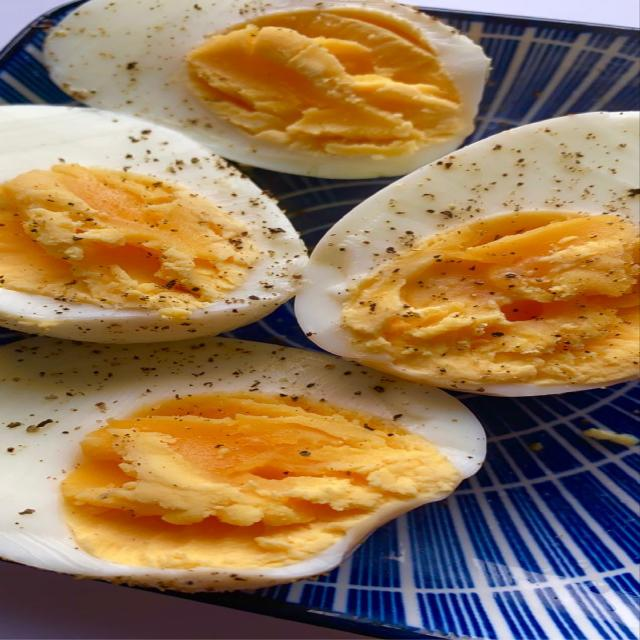eggs: (12, 5, 640, 616)
